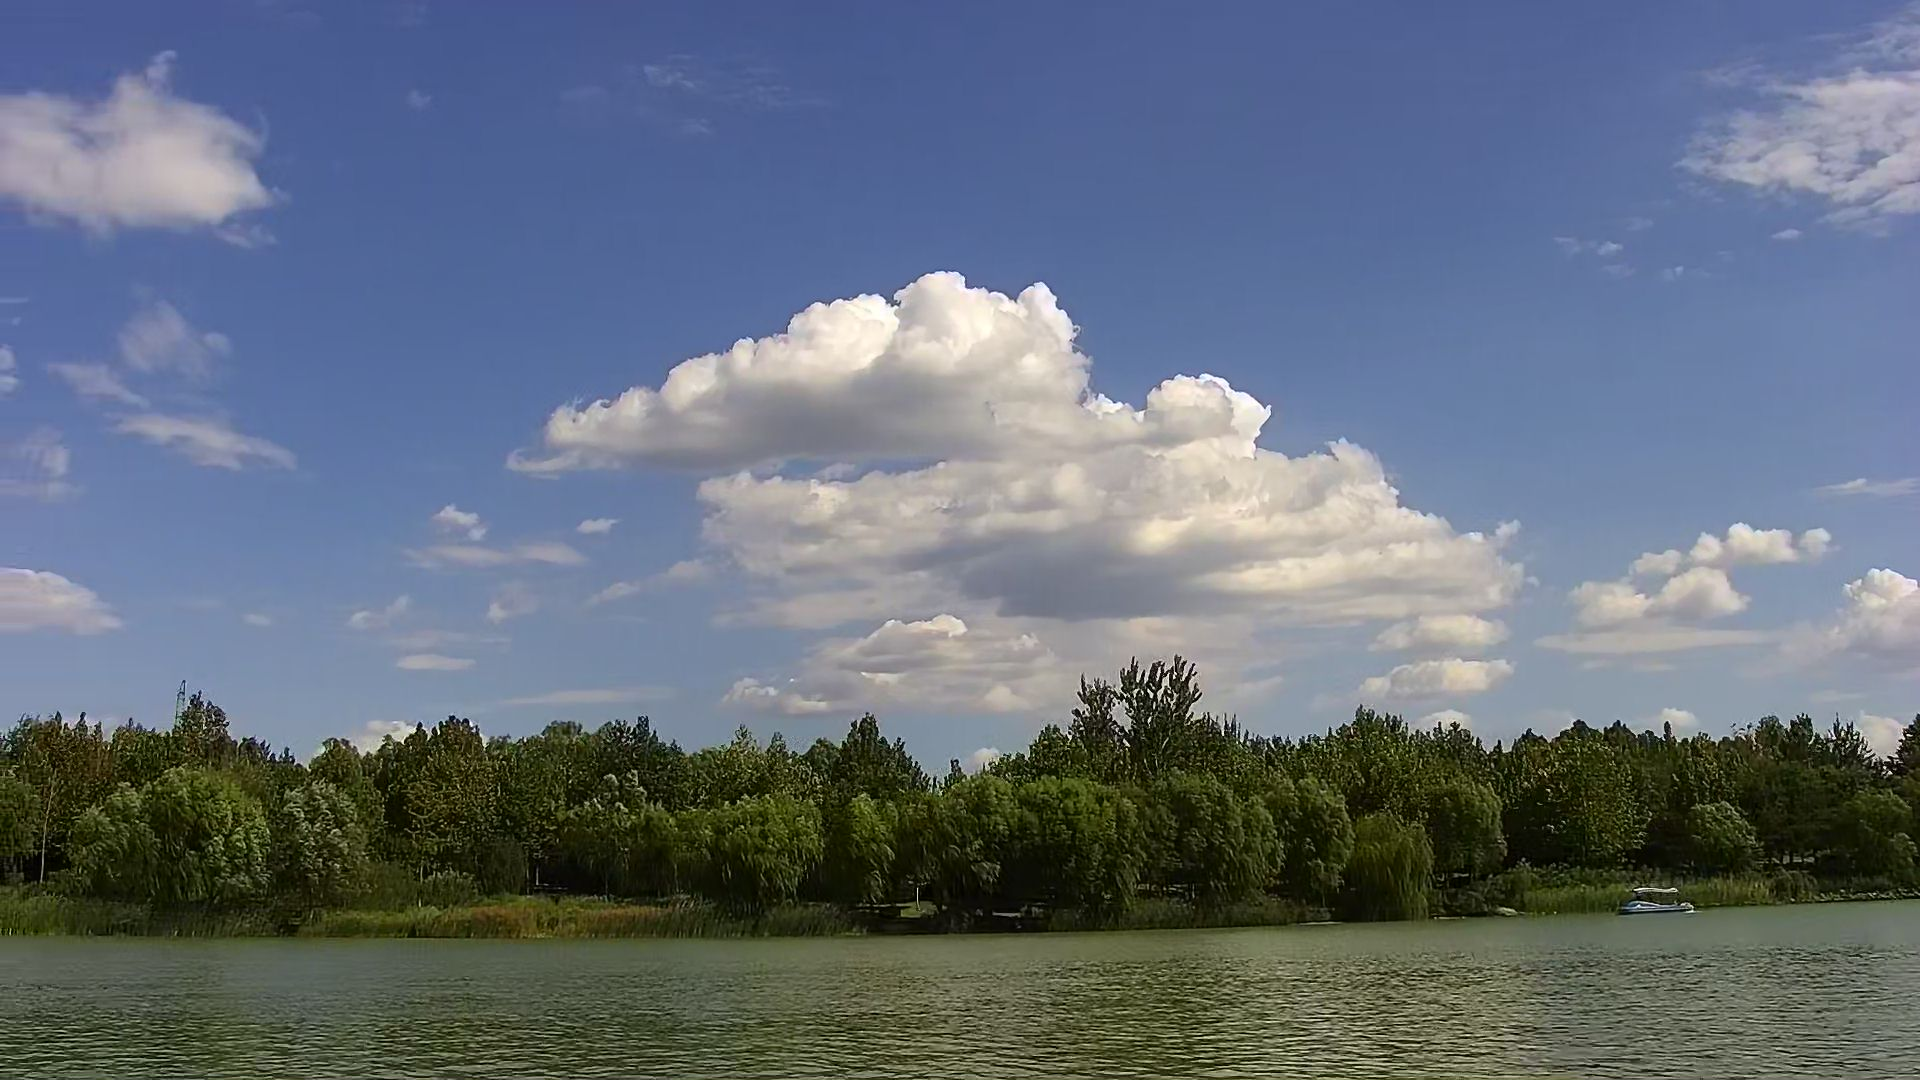boat: (1614, 880, 1702, 922)
